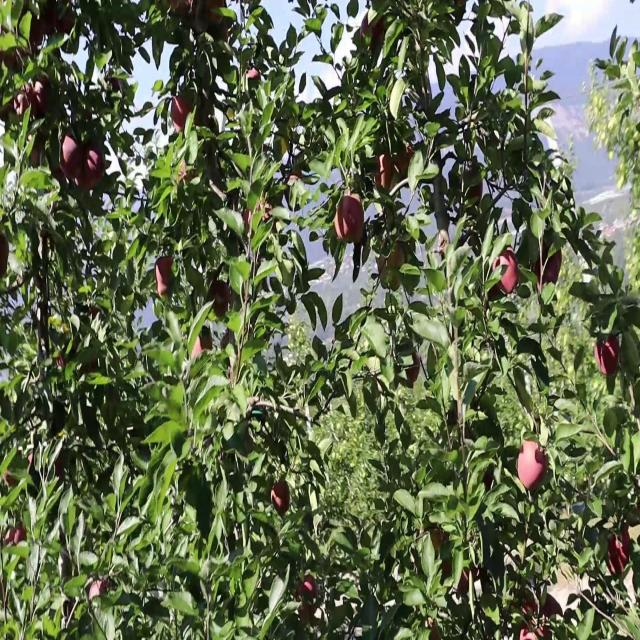apple: (336, 191, 365, 247), (520, 440, 550, 491), (492, 248, 520, 295), (296, 575, 320, 626), (60, 135, 86, 180), (596, 334, 622, 377), (80, 149, 105, 192), (608, 533, 632, 576), (360, 14, 386, 52), (244, 199, 273, 231), (548, 575, 569, 619), (172, 92, 193, 133), (32, 78, 52, 119), (48, 7, 76, 36), (156, 255, 175, 297), (380, 241, 407, 270), (544, 248, 563, 284), (272, 483, 292, 517), (376, 156, 395, 190), (396, 142, 414, 176), (468, 170, 485, 203), (376, 163, 395, 192), (16, 85, 32, 119), (4, 526, 28, 548), (376, 156, 395, 183), (60, 7, 76, 36), (172, 0, 193, 20), (32, 135, 45, 167), (432, 526, 447, 553), (408, 355, 421, 384), (192, 334, 206, 359), (180, 163, 194, 187), (4, 469, 19, 491), (32, 21, 45, 44), (48, 7, 59, 34), (208, 7, 222, 27), (32, 142, 43, 167), (248, 63, 261, 84), (4, 236, 11, 272), (56, 455, 65, 482), (4, 99, 15, 121), (56, 355, 68, 370), (92, 305, 100, 320)
